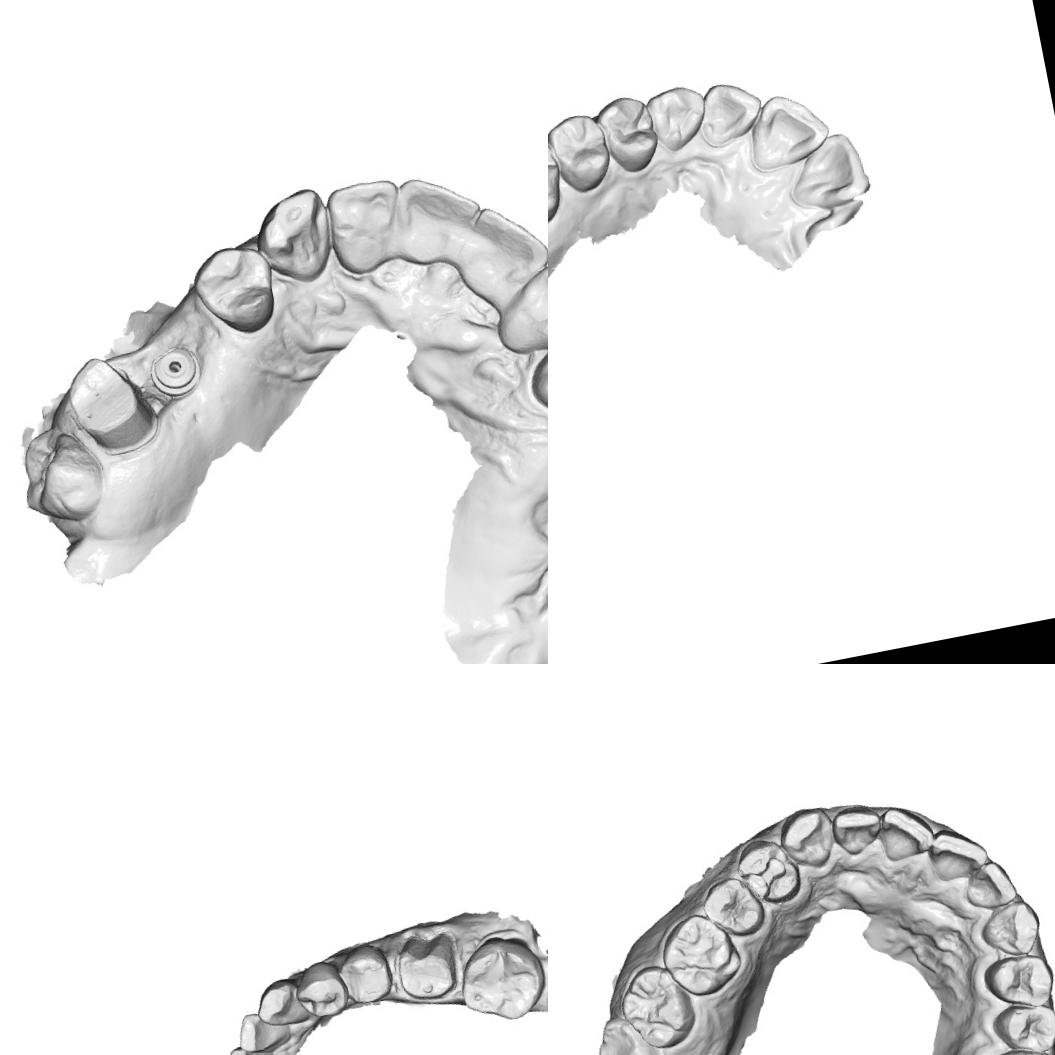canine: (250, 184, 345, 290), (642, 80, 710, 156), (972, 896, 1047, 964), (772, 802, 840, 871), (249, 972, 313, 1031), (518, 321, 548, 426)
crown: (54, 344, 159, 463), (388, 924, 466, 1007)
implant: (144, 339, 212, 402)
incisor: (318, 173, 408, 280), (389, 162, 490, 254), (459, 192, 548, 289), (779, 126, 870, 212), (742, 85, 834, 170), (485, 255, 548, 359), (692, 73, 762, 149), (870, 799, 938, 865), (924, 822, 990, 885), (826, 798, 887, 860), (958, 855, 1020, 915), (232, 1005, 294, 1055)
inlay: (734, 848, 792, 906)
molar: (450, 925, 548, 1028), (652, 906, 746, 1004), (613, 955, 702, 1055), (548, 128, 569, 242)
premolar: (185, 236, 284, 344), (594, 89, 662, 177), (548, 107, 614, 197), (694, 870, 768, 944), (978, 948, 1055, 1014), (331, 938, 397, 1008), (289, 956, 352, 1022), (989, 994, 1055, 1055)
